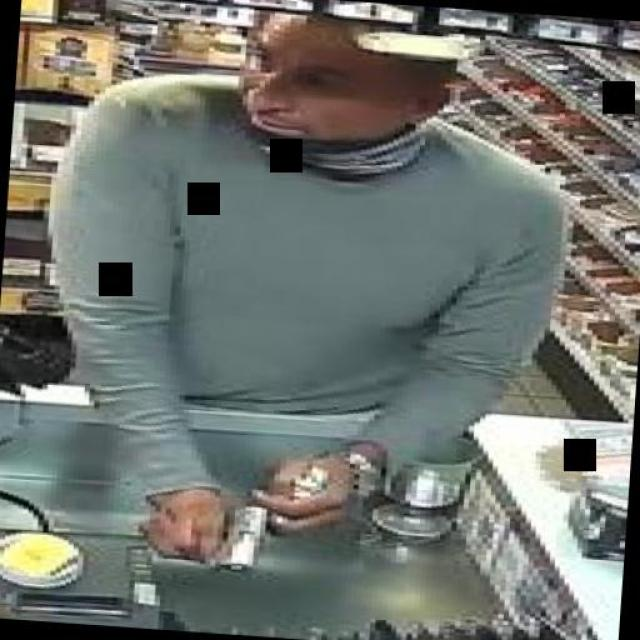gun: (126, 485, 274, 575)
